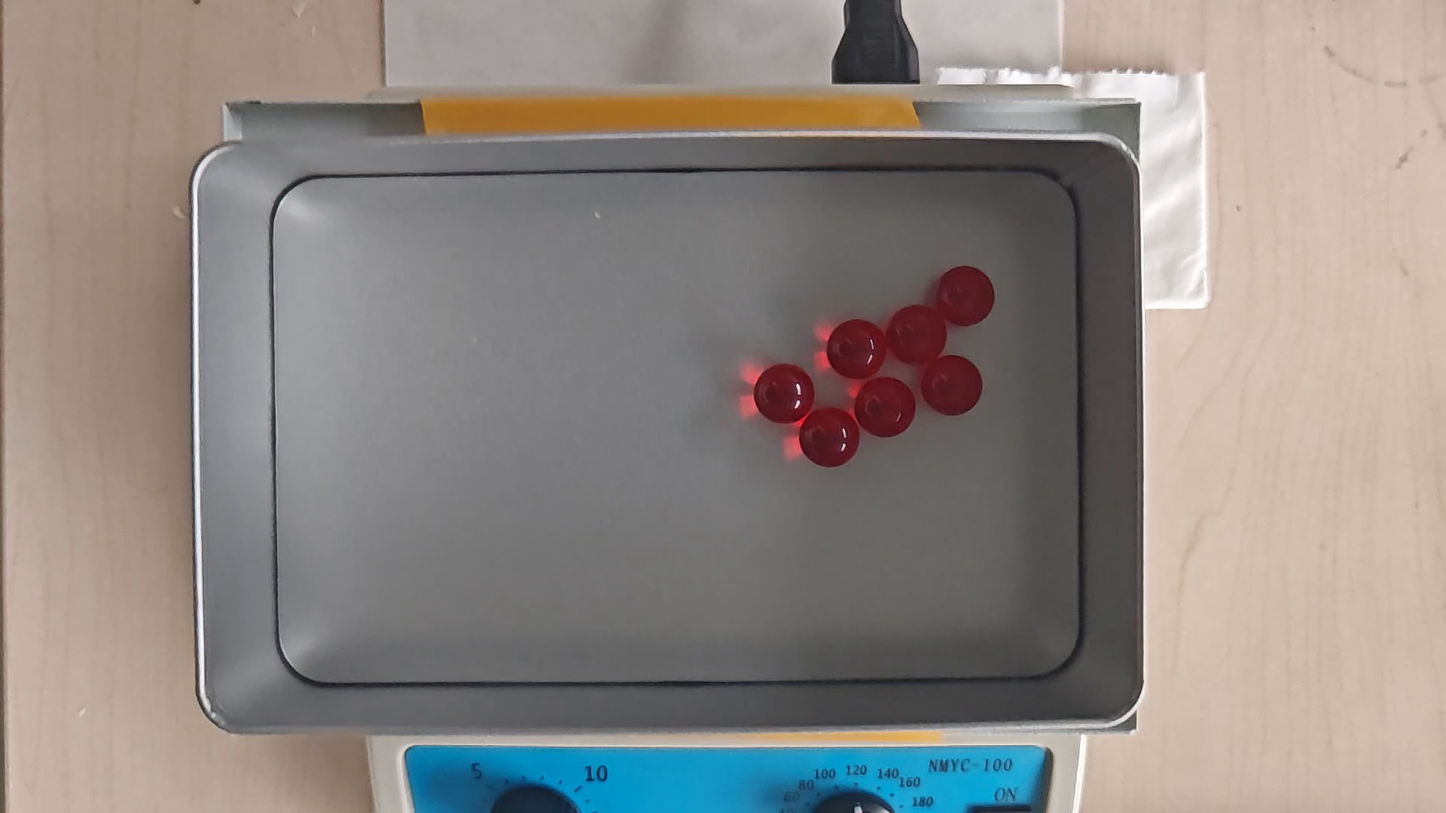ball: (920, 354, 984, 417), (825, 318, 886, 382), (886, 303, 947, 367), (752, 364, 816, 424), (853, 378, 917, 438), (935, 266, 995, 328), (800, 406, 859, 469)
container: (271, 173, 1079, 682)
